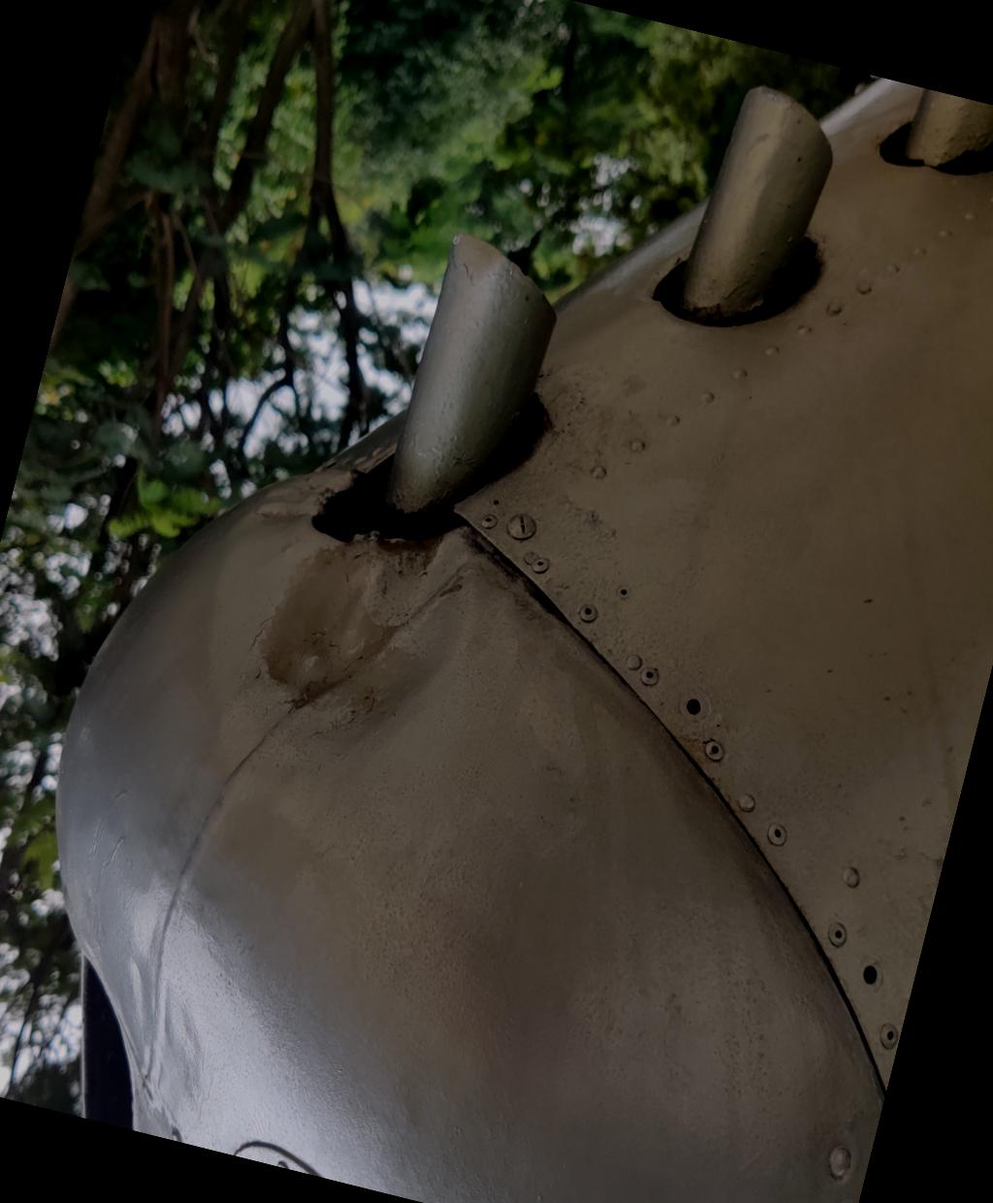dent: (245, 504, 486, 768)
